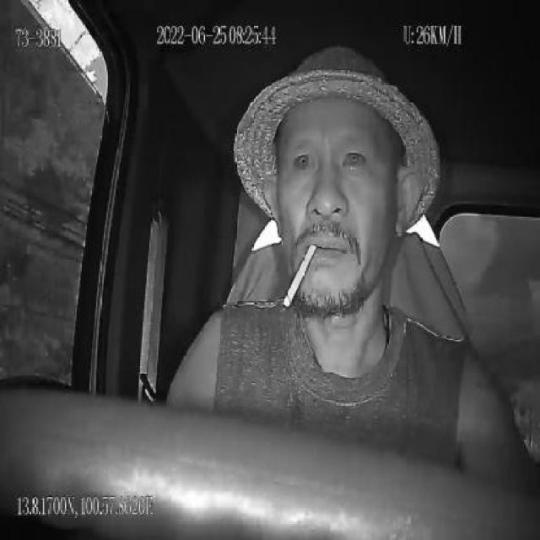smoking: (280, 240, 322, 309)
